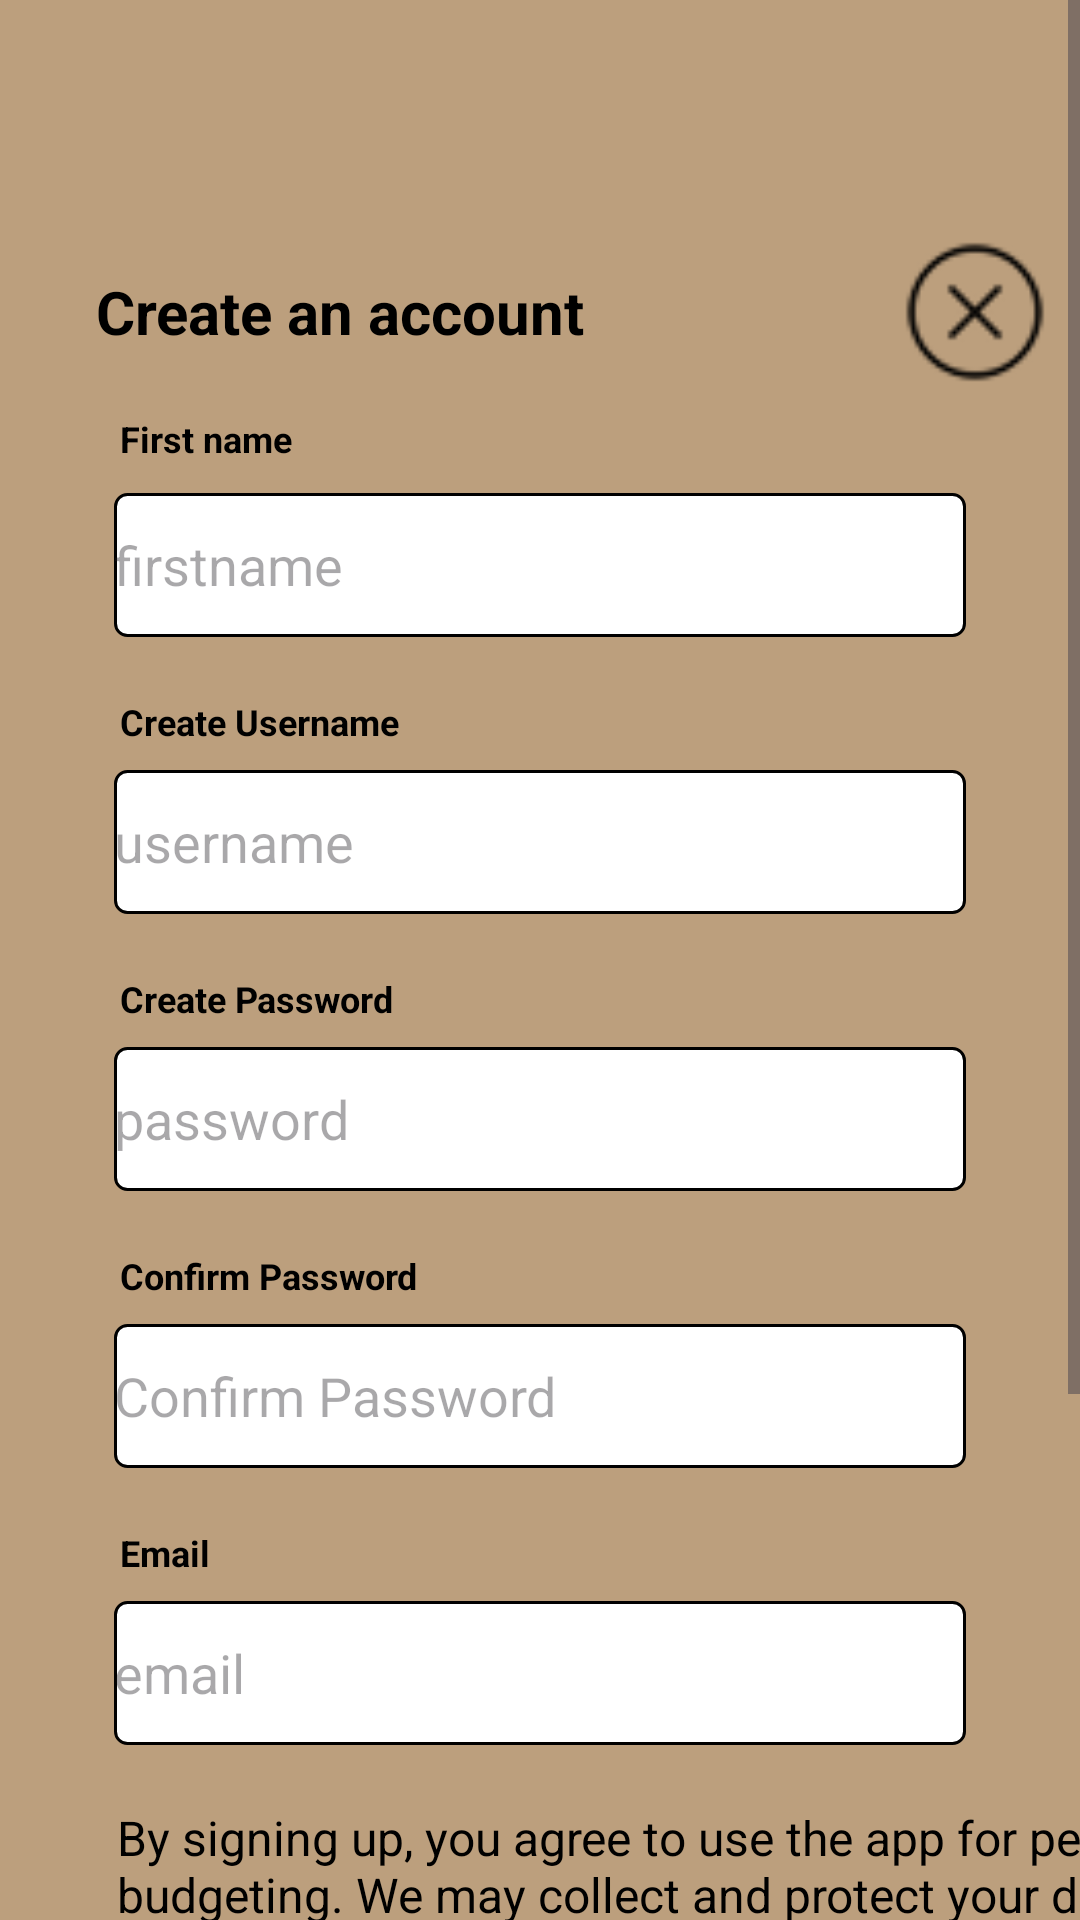

Icon bounding boxes for this 1080px x 1920px phone screenshot, format bbox(x1, y1, x2, y2):
cancel: bbox(906, 243, 1044, 381)
